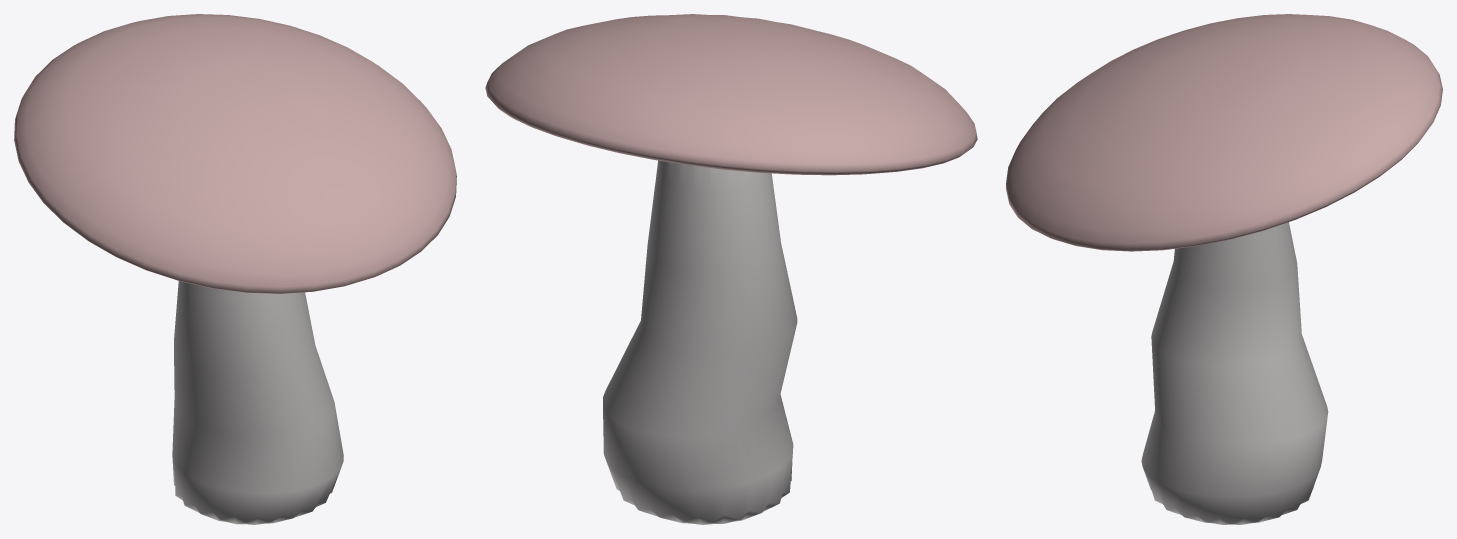
File: MushroomC_00.fbx
3 renders of one model, left to right at view 1: azimuth 30°, elevation 25°; view 2: azimuth 150°, elevation 25°; view 3: azimuth 270°, elevation 25°, orthographic. The views are drawn at different scales.
Parts seen in each view (by area): view 1: pCylinder7; view 2: pCylinder7; view 3: pCylinder7.
Part boxes in pixels (x1,y1,x2,y2): pCylinder7: [14, 14, 456, 524]; pCylinder7: [485, 14, 977, 524]; pCylinder7: [1006, 14, 1442, 524].
Size of the model in its own units: 5.3 by 5.63 by 5.15.
